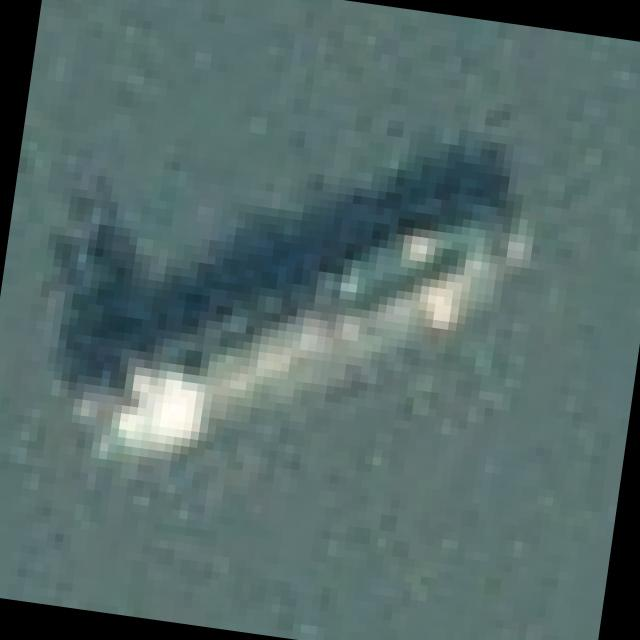ship: (49, 98, 552, 558)
